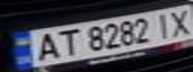2: (130, 15, 157, 44), (103, 20, 124, 51)
8: (84, 23, 106, 53), (118, 17, 139, 47)
A: (27, 29, 63, 62)
I: (151, 10, 175, 39)
T: (51, 26, 81, 57)
X: (163, 7, 193, 37)
